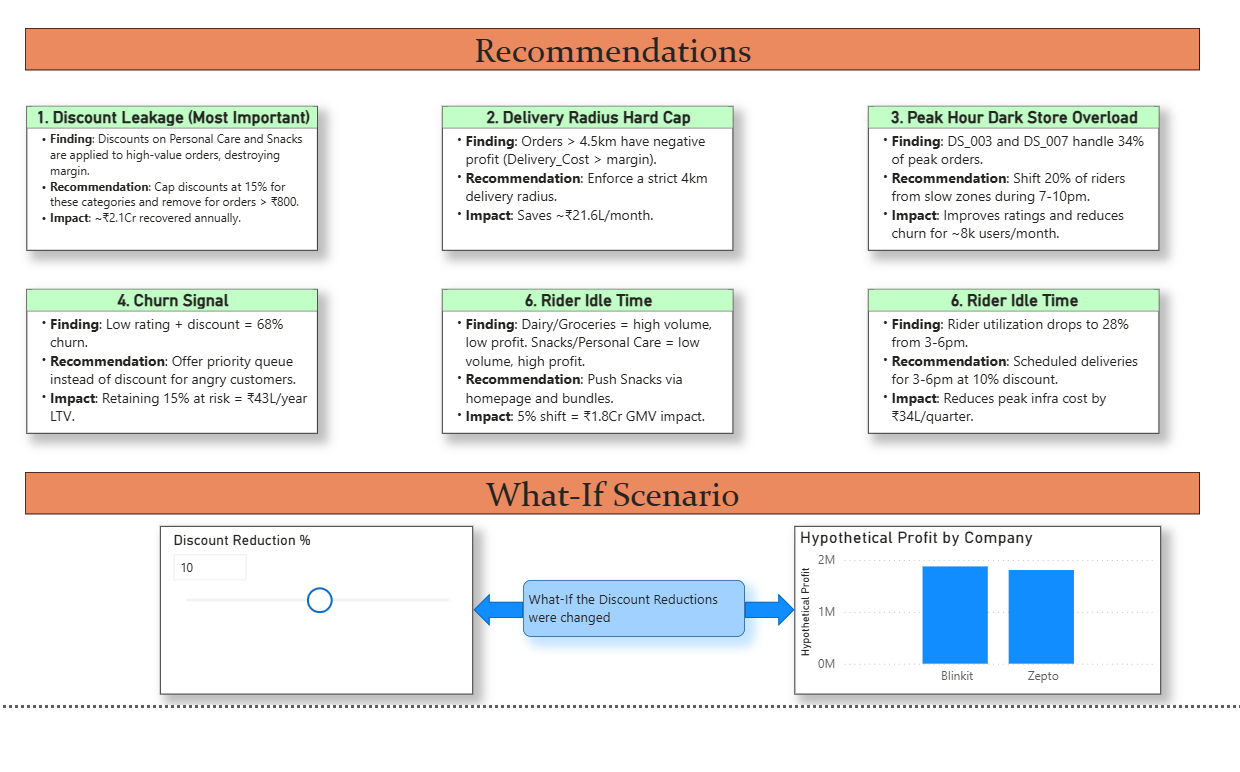

What the dashboard file says about the page in this screenshot:
{"tool":"powerbi","page":{"name":"Page 5","canvas":[1280,720],"ordinal":4},"visuals":[{"type":"textbox","title":"1. Discount Leakage (Most Important)","box":[37.1,115.7,294.3,145.7],"z":0},{"type":"textbox","title":"2. Delivery Radius Hard Cap","box":[457.1,115.7,294.3,145.7],"z":1000},{"type":"textbox","title":"3. Peak Hour Dark Store Overload","box":[887.1,115.7,294.3,145.7],"z":2000},{"type":"textbox","title":"6. Rider Idle Time","box":[887.1,300,294.3,145.7],"z":3000},{"type":"textbox","title":"5. Category Mix Shift","box":[457.1,300,294.3,145.7],"z":4000},{"type":"textbox","title":"4. Churn Signal","box":[37.1,300,294.3,145.7],"z":5000},{"type":"slicer","fields":{"Values":["Discount Reduction %.Discount Reduction %"]},"box":[172.9,538.6,315.7,170],"z":6000},{"type":"columnChart","fields":{"Y":["mumbai_qcommerce_enriched.Hypothetical Profit"],"Category":["mumbai_qcommerce_enriched.Company"]},"box":[812.9,538.6,370,170],"z":7000},{"type":"textbox","title":"Recommendations","box":[35.7,35.7,1185.7,42.9],"z":8000},{"type":"textbox","title":"What-If Scenario","box":[35.7,484.3,1185.7,42.9],"z":9000},{"type":"textbox","box":[538.6,594.3,224.3,57.1],"z":10000},{"type":"shape","box":[762.9,607.1,50,32.9],"z":11000},{"type":"shape","box":[488.6,607.1,50,32.9],"z":12000}]}

Visuals, with their boxes in screenshot pixels (x1, y1, x2, y2):
"1. Discount Leakage (Most Important)" textbox: crop(24, 105, 315, 249)
"2. Delivery Radius Hard Cap" textbox: crop(440, 105, 731, 249)
"3. Peak Hour Dark Store Overload" textbox: crop(866, 105, 1157, 249)
"6. Rider Idle Time" textbox: crop(866, 287, 1157, 432)
"5. Category Mix Shift" textbox: crop(440, 287, 731, 432)
"4. Churn Signal" textbox: crop(24, 287, 315, 432)
slicer - Discount Reduction %.Discount Reduction %: crop(158, 524, 471, 692)
columnChart - mumbai_qcommerce_enriched.Hypothetical Profit x mumbai_qcommerce_enriched.Company: crop(792, 524, 1159, 692)
"Recommendations" textbox: crop(22, 26, 1197, 68)
"What-If Scenario" textbox: crop(22, 470, 1197, 512)
textbox: crop(521, 579, 743, 636)
shape: crop(743, 592, 792, 624)
shape: crop(471, 592, 521, 624)
